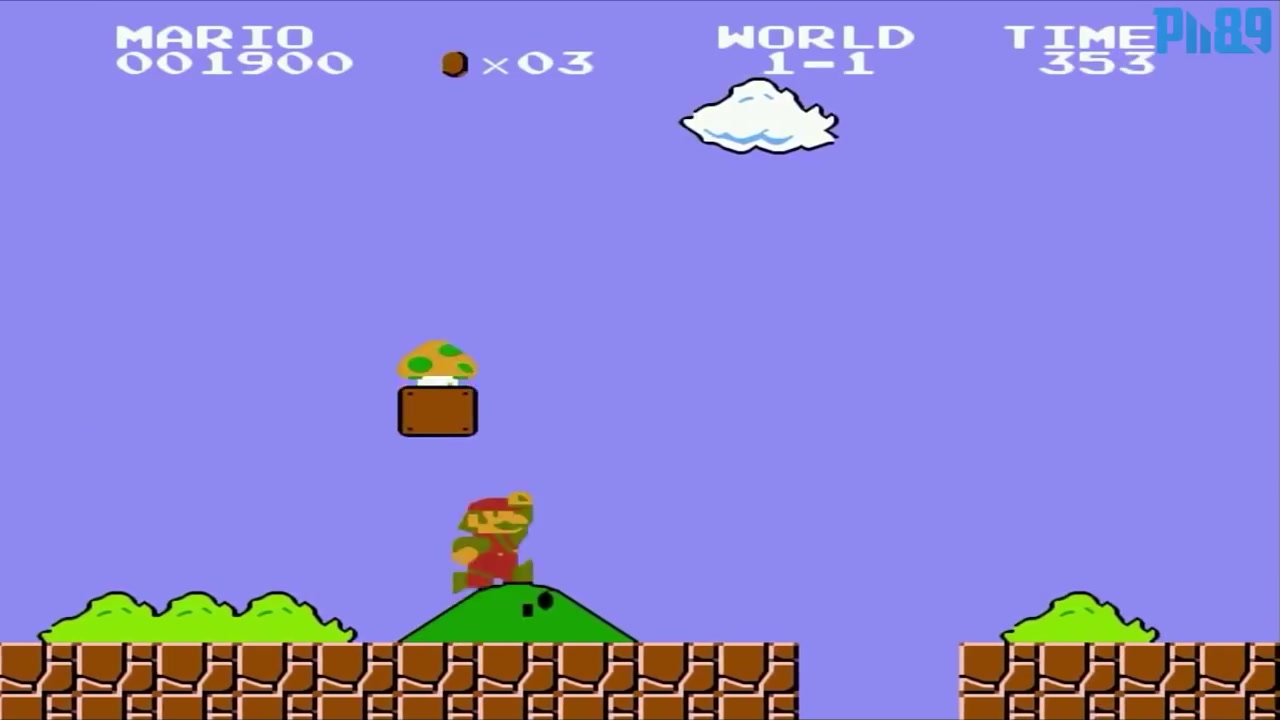mario: (448, 482, 543, 594)
